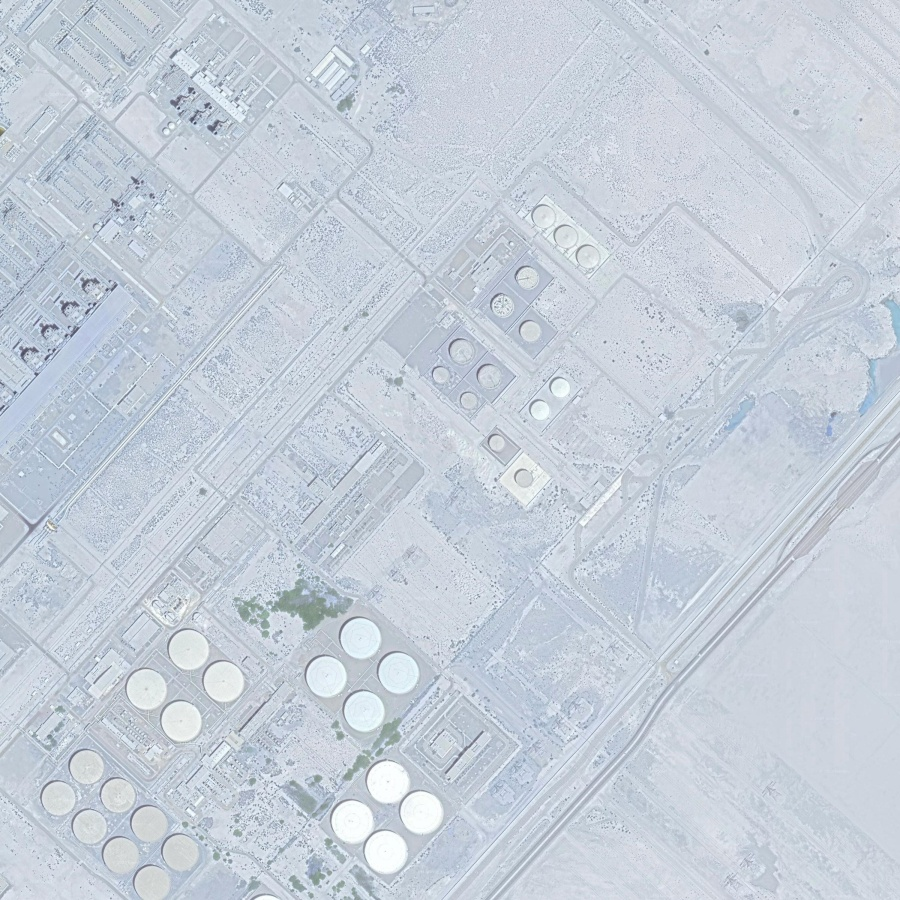PowerPlant: (420, 198, 632, 495)
